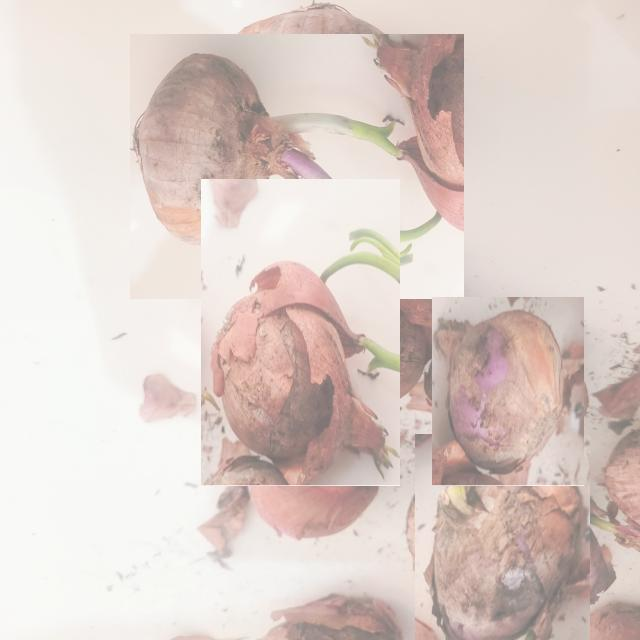rotten: (425, 486, 582, 639)
sprouting: (133, 54, 402, 242)
